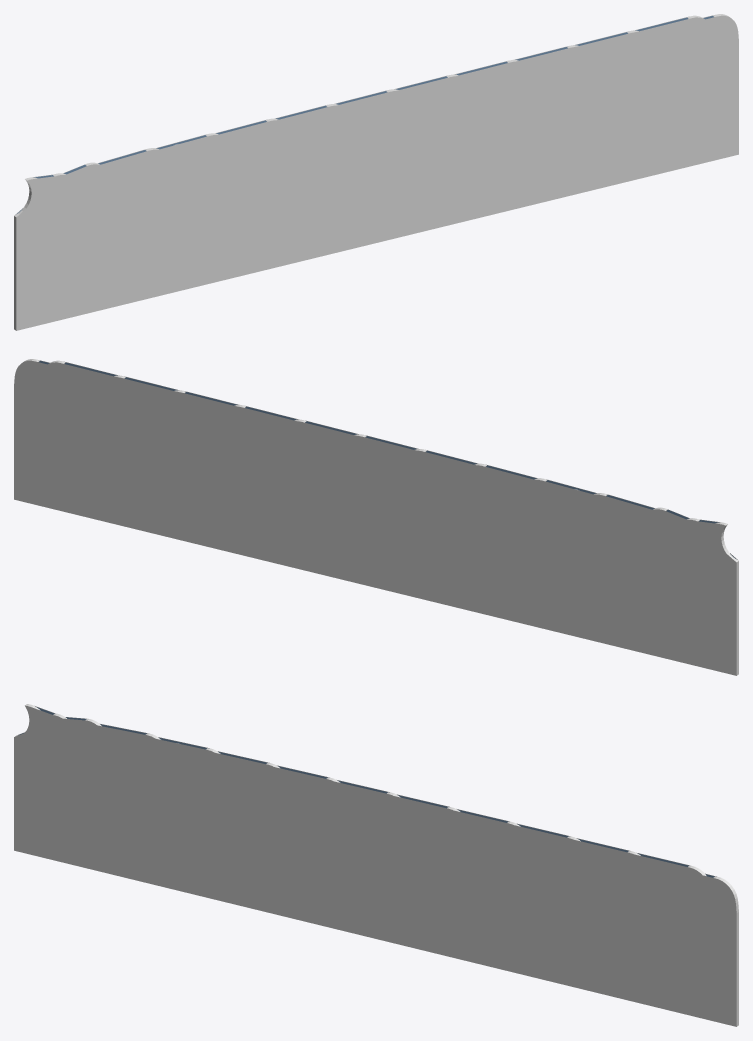
The model's file is resource__surrounding__sea-waves.fbx.
The picture shows the model from 3 angles, top to bottom: view 1: azimuth 30°, elevation 25°; view 2: azimuth 150°, elevation 25°; view 3: azimuth 330°, elevation 25°; orthographic projection.
Visible parts, largest first — view 1: Map_Surrounding_SeaWaves; view 2: Map_Surrounding_SeaWaves; view 3: Map_Surrounding_SeaWaves.
Part boxes in pixels (box(x1,y1,x2,y2)): Map_Surrounding_SeaWaves: box(14, 14, 738, 330); Map_Surrounding_SeaWaves: box(14, 359, 738, 675); Map_Surrounding_SeaWaves: box(14, 704, 738, 1026).
Bounding box in the file's own units: 3592 × 703 × 20.
